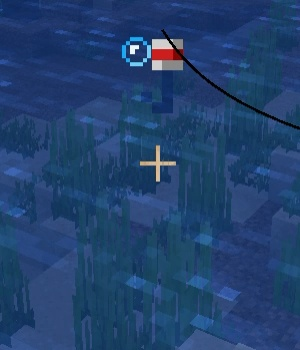up: (139, 30, 191, 121)
